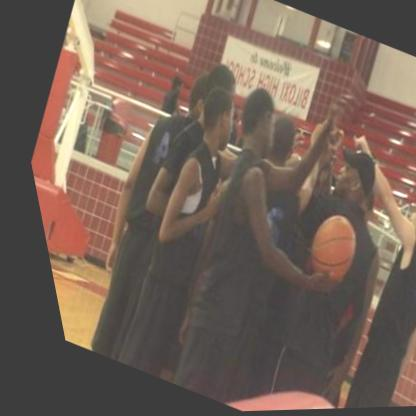basketball: (284, 210, 361, 290)
